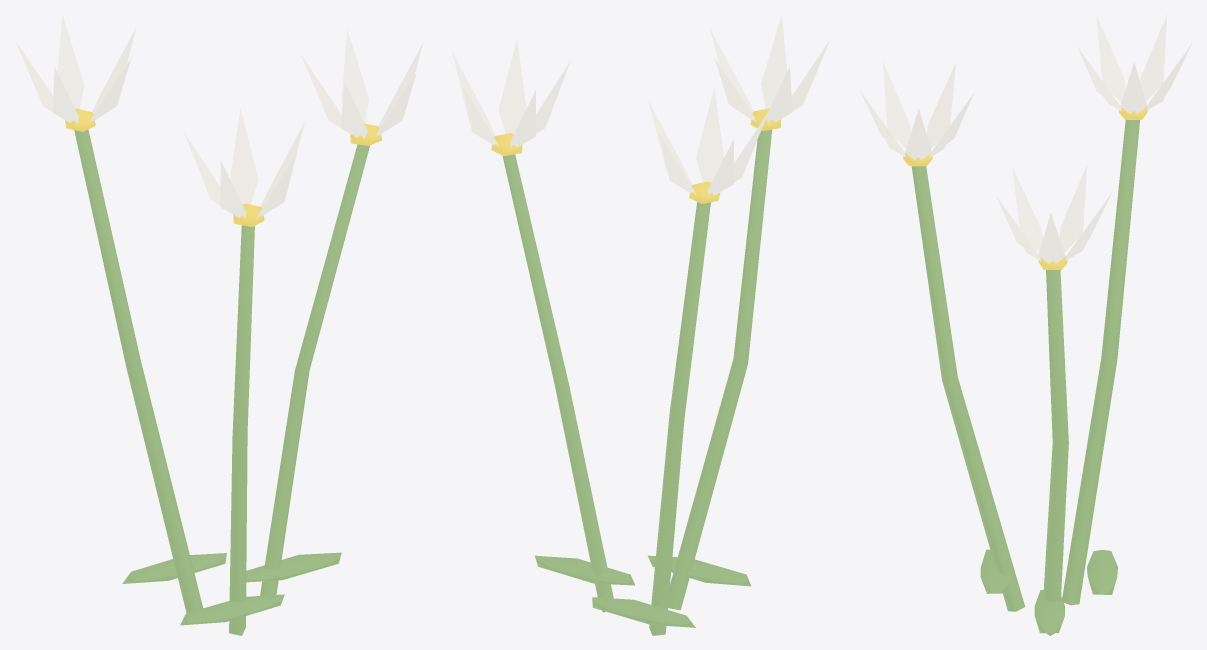
The model's file is Blender_Flower_Cup.glb.
3 views of the same model, side by side, from view 1: azimuth 30°, elevation 25°; view 2: azimuth 150°, elevation 25°; view 3: azimuth 270°, elevation 25° (orthographic). The views are drawn at different scales.
Parts seen in each view (by area): view 1: Blender_Flower_Cup; view 2: Blender_Flower_Cup; view 3: Blender_Flower_Cup.
Part boxes in pixels (x1,y1,x2,y2): Blender_Flower_Cup: [14, 14, 422, 635]; Blender_Flower_Cup: [452, 14, 830, 635]; Blender_Flower_Cup: [860, 14, 1192, 635].
Bounding box in the file's own units: 0.2074 × 0.3253 × 0.185.
